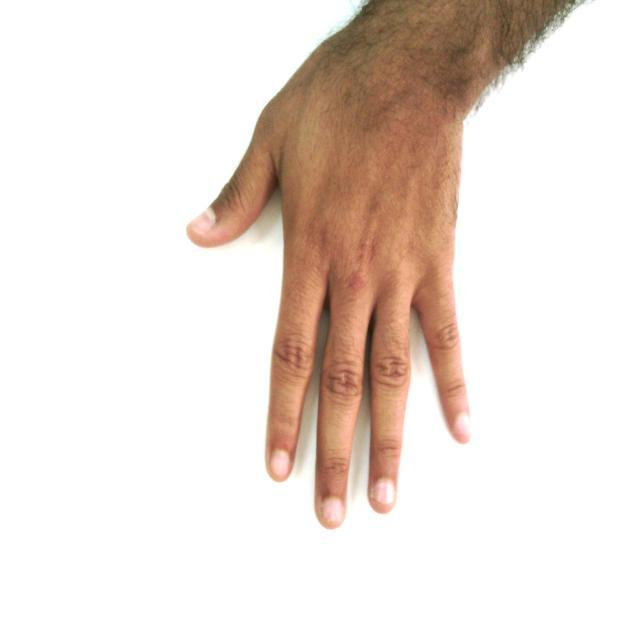Fingernail: (189, 209, 215, 232), (272, 450, 290, 479), (323, 499, 343, 525), (374, 481, 394, 504), (454, 416, 470, 441)
